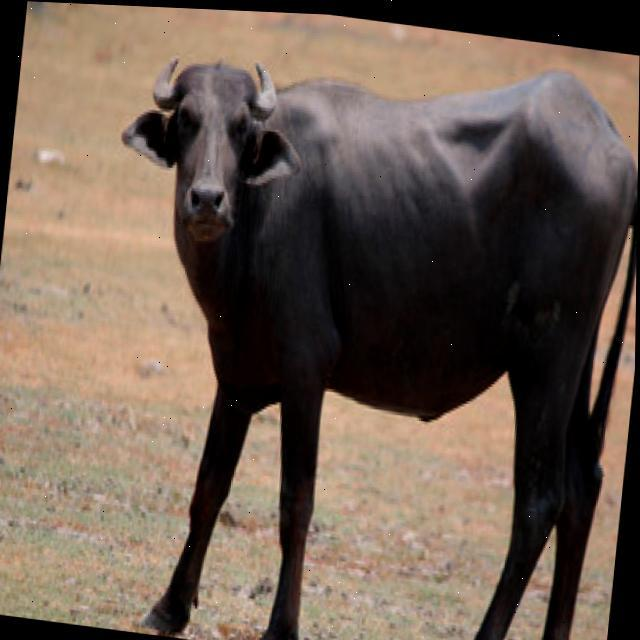Buffalo: (67, 5, 640, 640)
